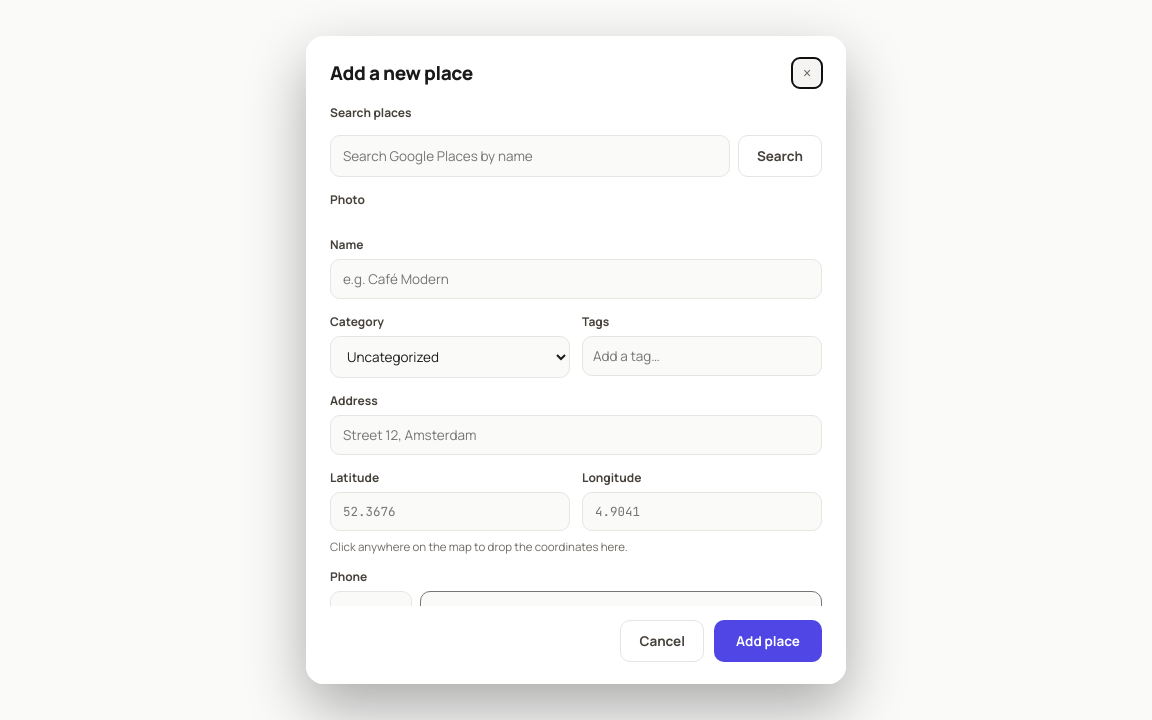
Test: PoiFormModal enrich › shows a hint when search fails (e.g. no Google key)
The width and height of the screenshot is (1152, 720).
Step 1. Type "taco" into the field labelled "Search places" → (530, 156), box x1=330 y1=135 x2=730 y2=177
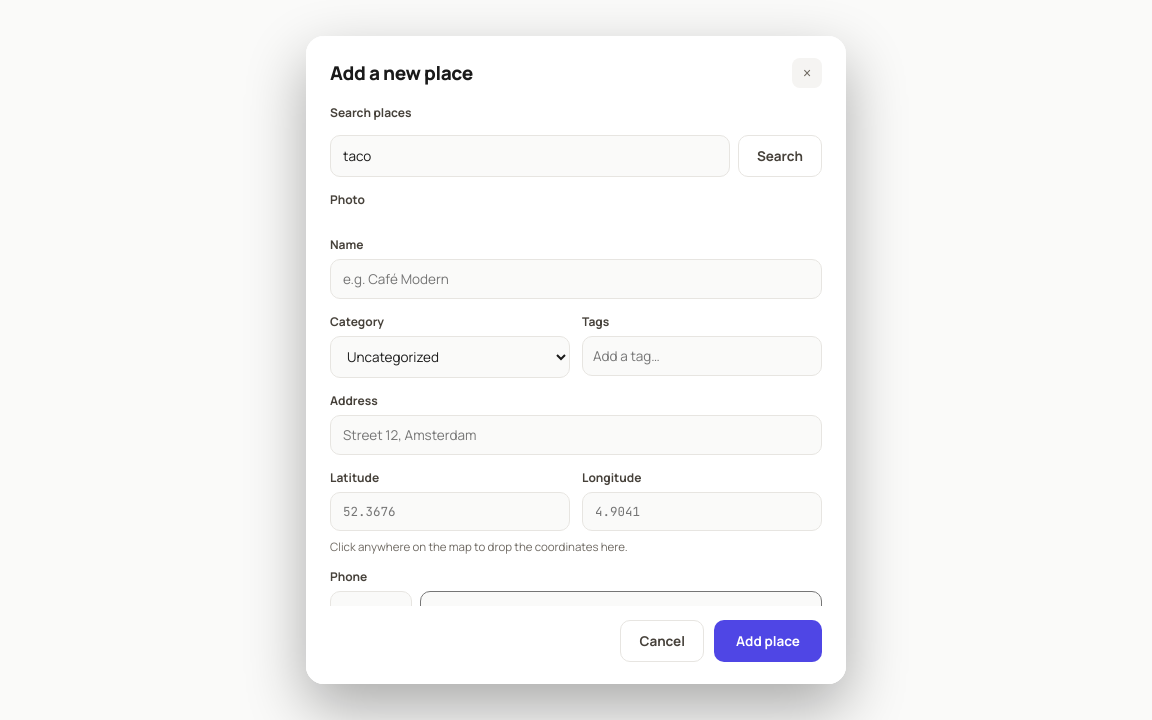
Step 2. Click the button "Search" → (780, 156), box x1=738 y1=135 x2=822 y2=177
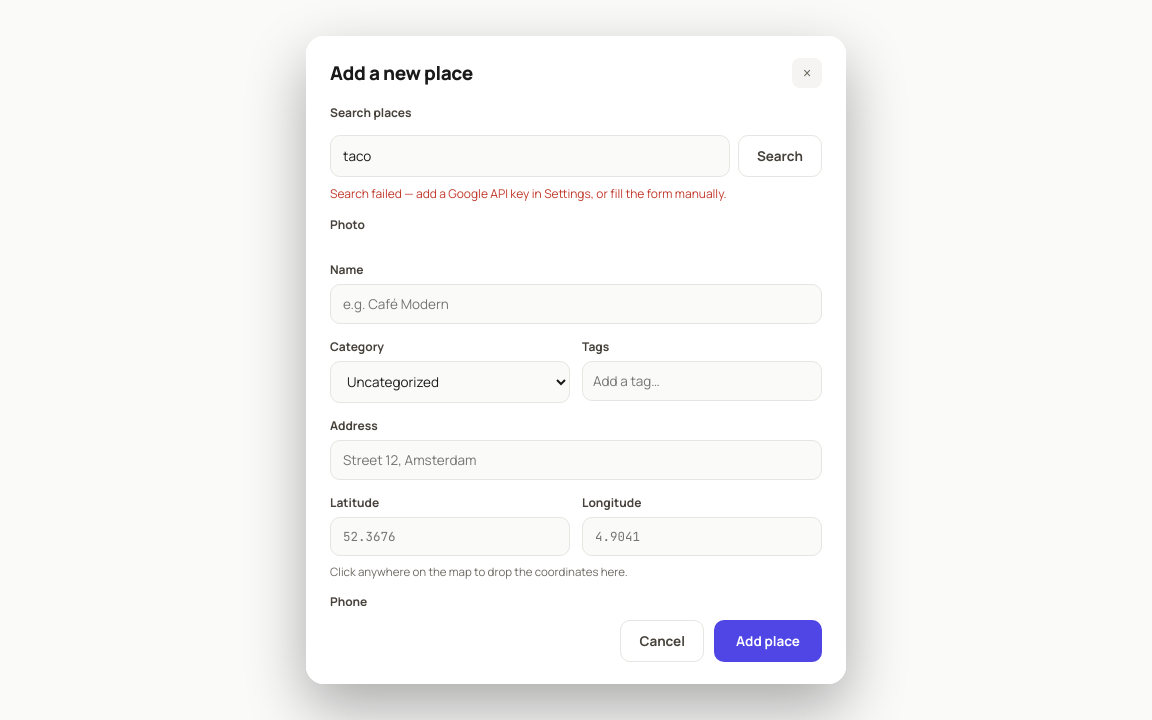
Expected: the text "Search failed — add a Google API key in Settings, or fill the form manually." is shown, x1=330 y1=185 x2=727 y2=202
